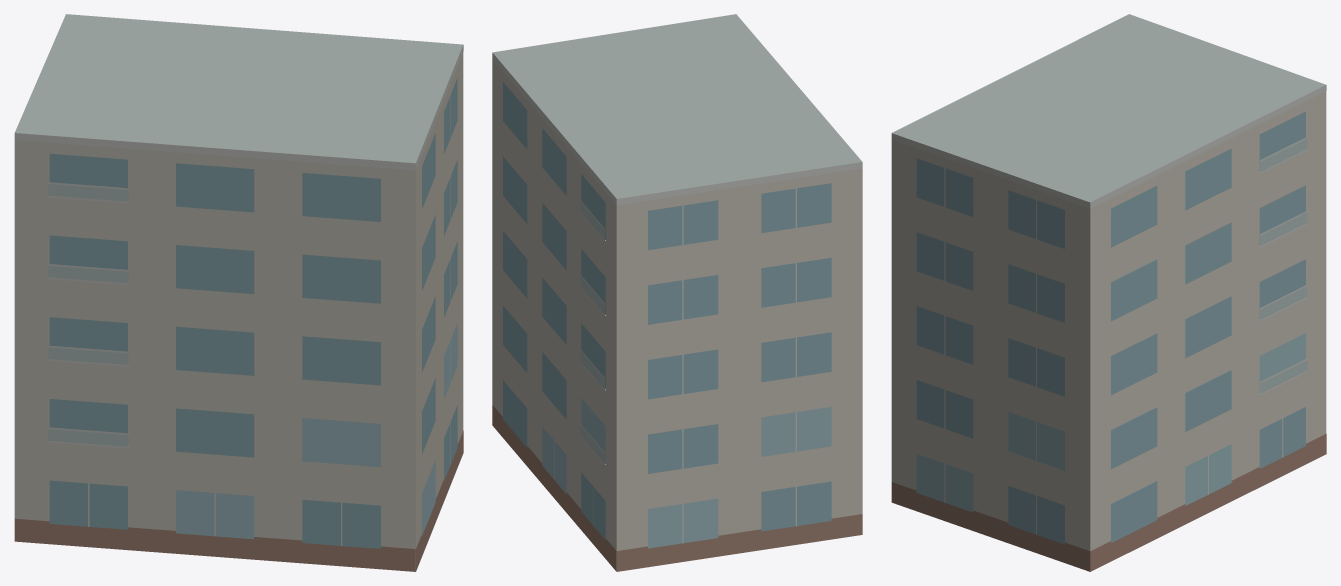
File: survey-upis-32879334.glb
3 views of the same model, side by side, from view 1: azimuth 30°, elevation 25°; view 2: azimuth 150°, elevation 25°; view 3: azimuth 270°, elevation 25° (orthographic). The views are drawn at different scales.
Visible parts, largest first — view 1: survey-upis-32879334.tmp; view 2: survey-upis-32879334.tmp; view 3: survey-upis-32879334.tmp.
Boxes of the visible parts, x1,y1,x2,y2 form: survey-upis-32879334.tmp: (14, 14, 463, 571); survey-upis-32879334.tmp: (492, 14, 862, 571); survey-upis-32879334.tmp: (891, 14, 1326, 571).
Size of the model in its own units: 15.55 by 14.2 by 15.16.
